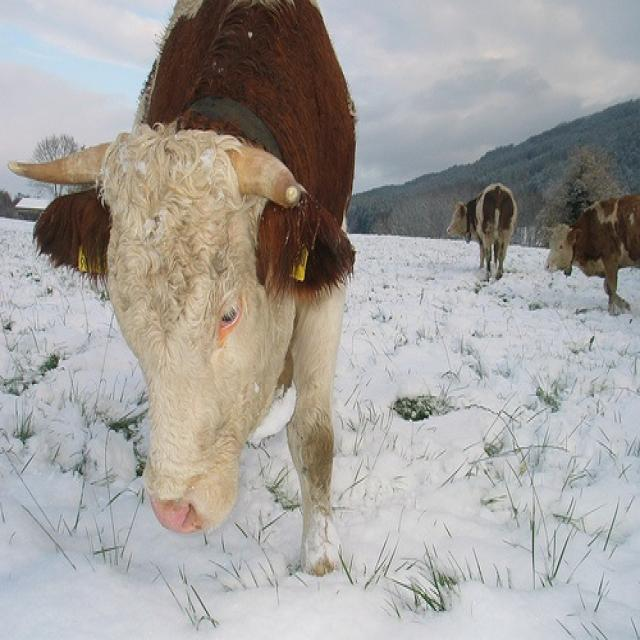cow: (8, 4, 356, 574), (544, 193, 639, 312), (444, 181, 517, 282)
